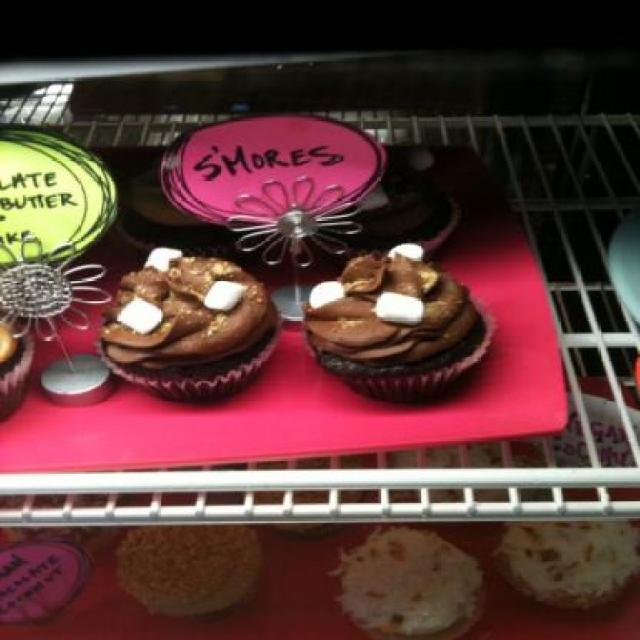Muffin: (299, 241, 496, 402), (88, 248, 278, 403), (329, 524, 497, 640), (318, 140, 467, 260), (112, 519, 265, 621), (486, 520, 639, 617), (112, 170, 240, 258), (240, 453, 371, 535), (0, 491, 123, 544), (0, 306, 38, 421)
